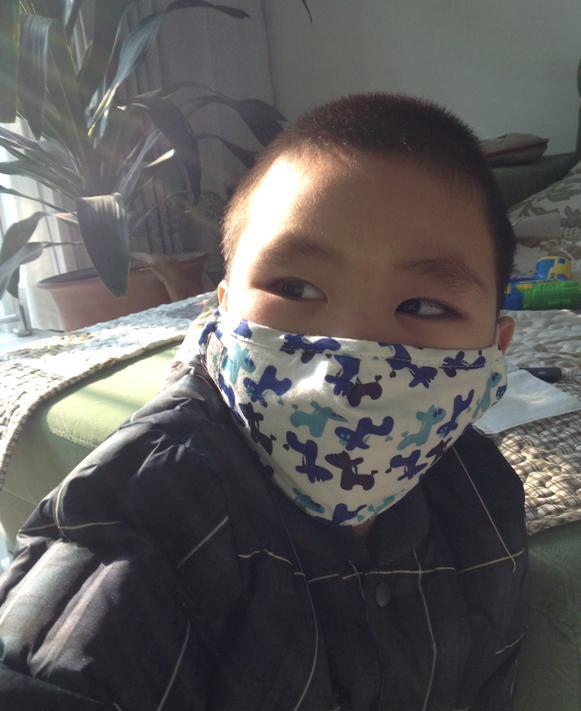OK: (213, 232, 477, 496)
